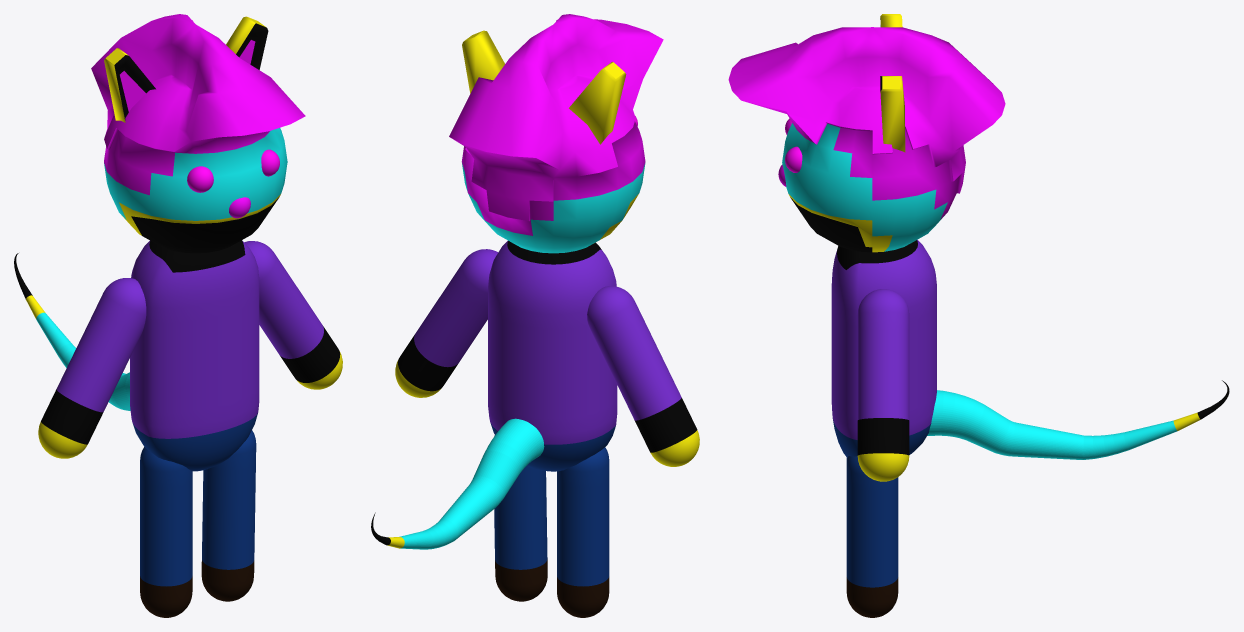
File: neo.fbx
The picture shows the model from 3 angles, left to right: view 1: azimuth 30°, elevation 25°; view 2: azimuth 150°, elevation 25°; view 3: azimuth 270°, elevation 25°; orthographic projection.
Parts seen in each view (by area): view 1: head, body, larm, lleg, rleg, rarm, Cube, tail, eyes; view 2: head, body, larm, lleg, rarm, tail, rleg, Cube; view 3: head, body, rarm, tail, rleg, Cube.
Part boxes in pixels (<box>): head: <box>91,14,305,253</box>; body: <box>130,240,259,471</box>; larm: <box>38,278,146,458</box>; lleg: <box>140,447,192,617</box>; rleg: <box>201,430,256,601</box>; rarm: <box>244,241,342,389</box>; Cube: <box>104,16,268,122</box>; tail: <box>14,253,130,410</box>; eyes: <box>187,149,279,192</box>; head: <box>449,14,663,253</box>; body: <box>488,240,617,471</box>; larm: <box>587,286,699,466</box>; lleg: <box>557,447,609,617</box>; rarm: <box>395,249,498,397</box>; tail: <box>371,418,544,549</box>; rleg: <box>494,435,547,601</box>; Cube: <box>462,30,626,144</box>; head: <box>728,27,1005,252</box>; body: <box>831,239,936,457</box>; rarm: <box>857,289,909,481</box>; tail: <box>927,380,1229,459</box>; rleg: <box>846,456,898,617</box>; Cube: <box>880,14,905,152</box>.
Bounding box in the file's own units: 262 × 491 × 388.
